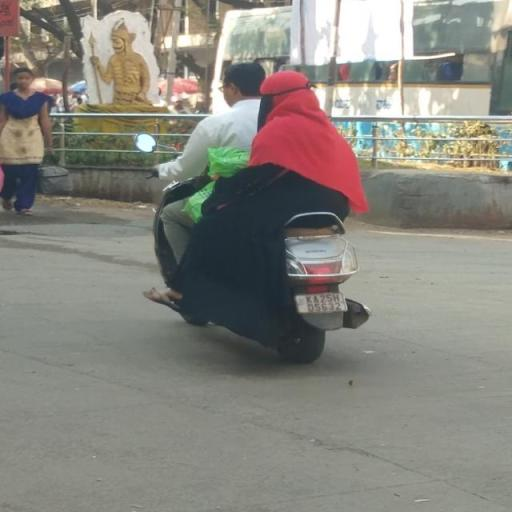bike: (124, 57, 386, 371)
numberplate: (296, 289, 346, 316)
withouthelmet: (264, 73, 305, 117), (222, 65, 262, 100)
